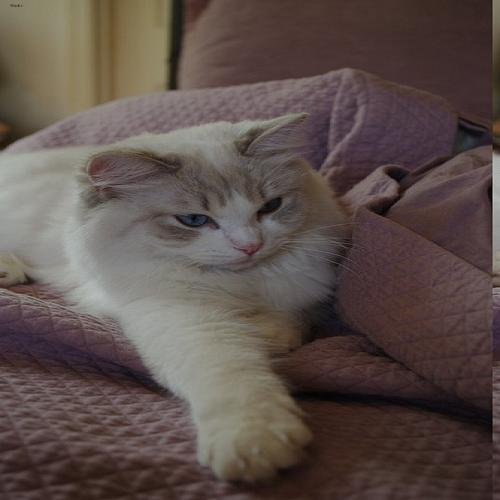ragdoll: (74, 105, 339, 278)
